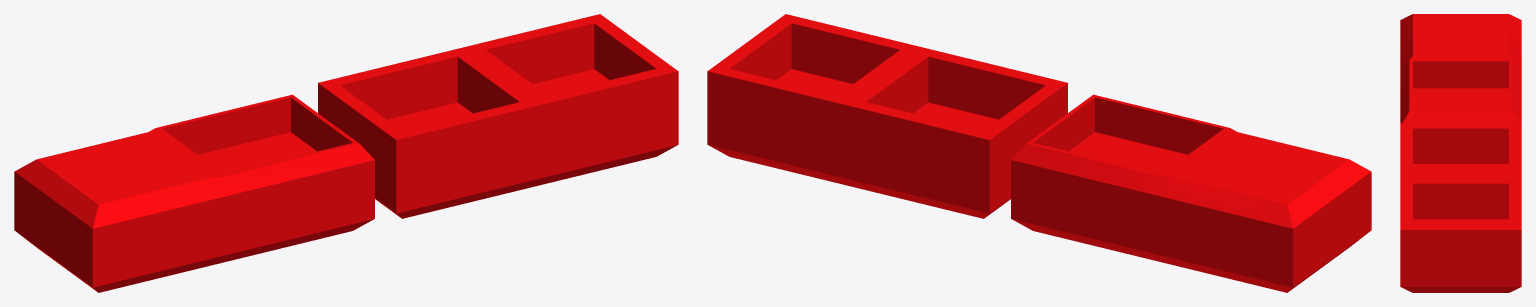
File: MOD_VehiculeAttraction.FBX
The picture shows the model from 3 angles, left to right: view 1: azimuth 30°, elevation 25°; view 2: azimuth 150°, elevation 25°; view 3: azimuth 270°, elevation 25°; orthographic projection. The views are drawn at different scales.
Visible parts, largest first — view 1: Vehicule B, vehicule attraction A; view 2: Vehicule B, vehicule attraction A; view 3: Vehicule B, vehicule attraction A.
Part boxes in pixels (x1,y1,x2,y2): Vehicule B: [318, 14, 678, 218]; vehicule attraction A: [14, 94, 374, 292]; Vehicule B: [707, 14, 1067, 218]; vehicule attraction A: [1011, 94, 1371, 292]; Vehicule B: [1400, 123, 1521, 292]; vehicule attraction A: [1400, 14, 1521, 123].
Bounding box in the file's own units: 41.95 × 6.03 × 9.71.
